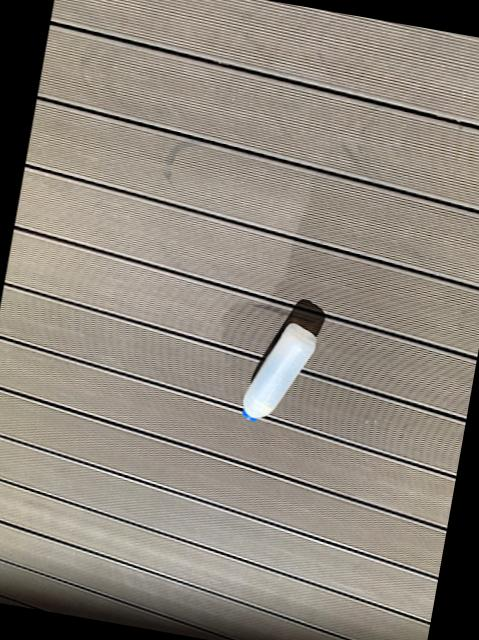plastic: (242, 324, 314, 420)
